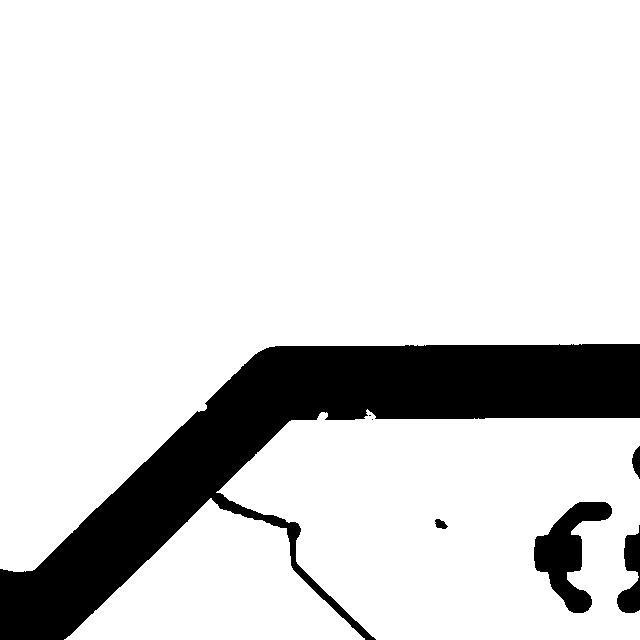copper: (425, 509, 457, 538)
mousebite: (354, 399, 385, 428), (307, 402, 337, 431), (187, 395, 214, 421)
short: (200, 483, 305, 539)
